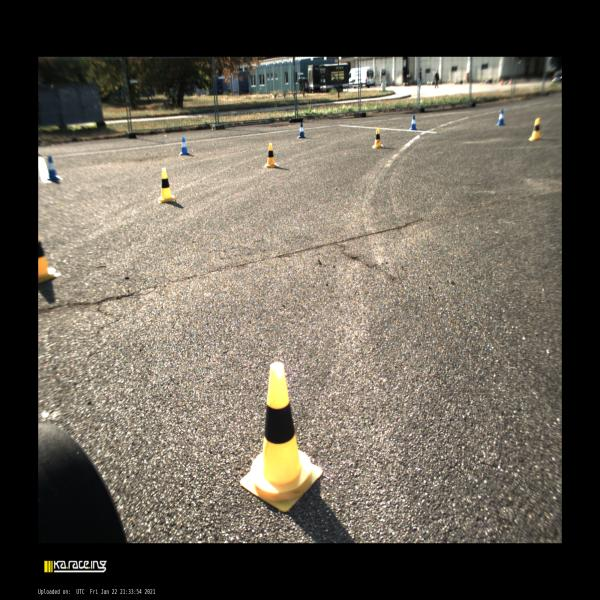blue_cone: (47, 154, 61, 180), (179, 136, 189, 155), (496, 110, 505, 126), (410, 114, 418, 130), (298, 122, 306, 138)
yellow_cone: (241, 362, 323, 512), (38, 231, 60, 284), (158, 168, 175, 204), (264, 143, 278, 168), (528, 118, 541, 141), (372, 128, 383, 148)
